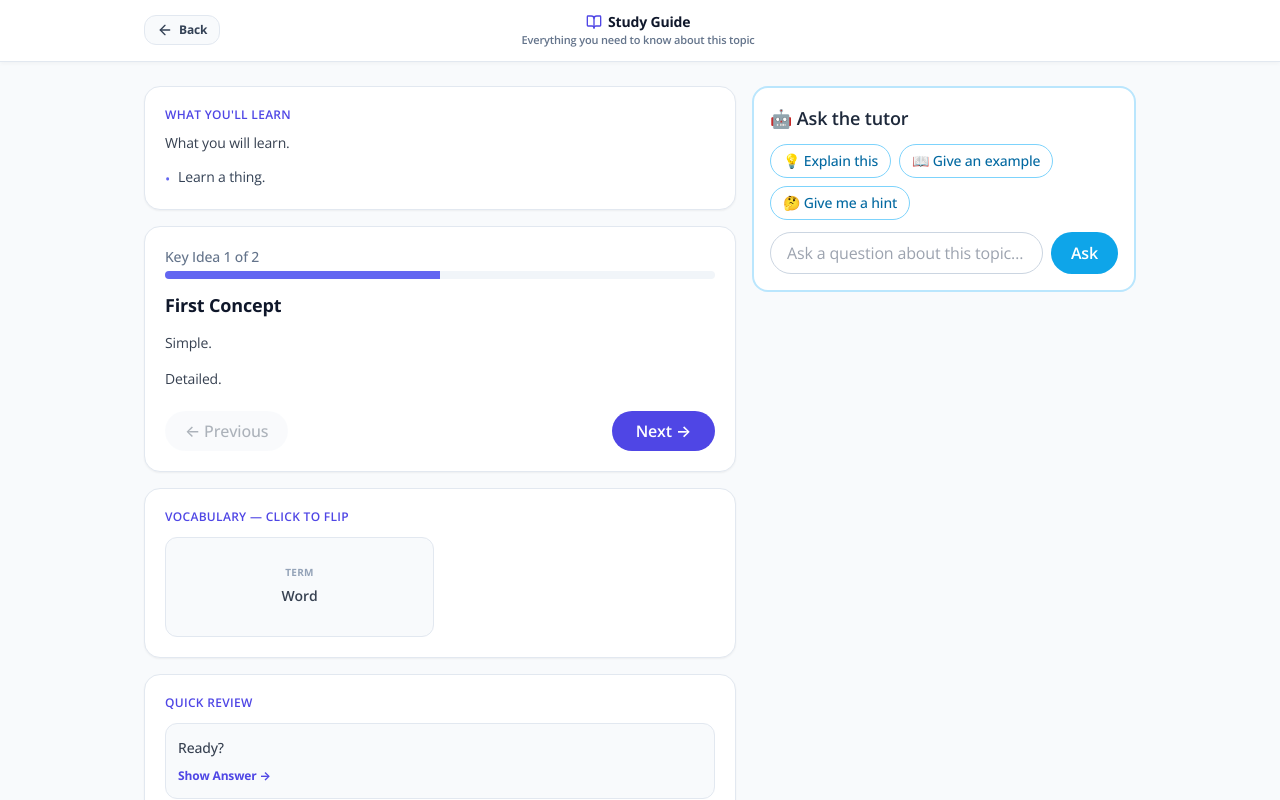
Test: KidsStudyGuidePage › renders the concept stepper, vocabulary, and practice questions without throwing
Check: the heading "First Concept" is shown, box 165,292 -> 282,316
Check: the text "What you will learn." is shown, box 165,132 -> 290,152
Stepping to the next concept exercises the Prev/Next state transition without crashing.
What coordinates should you click on to do the following:
click the button "Next →"
I would click on:
 (663, 430)
Its box is 612,410 -> 715,450.
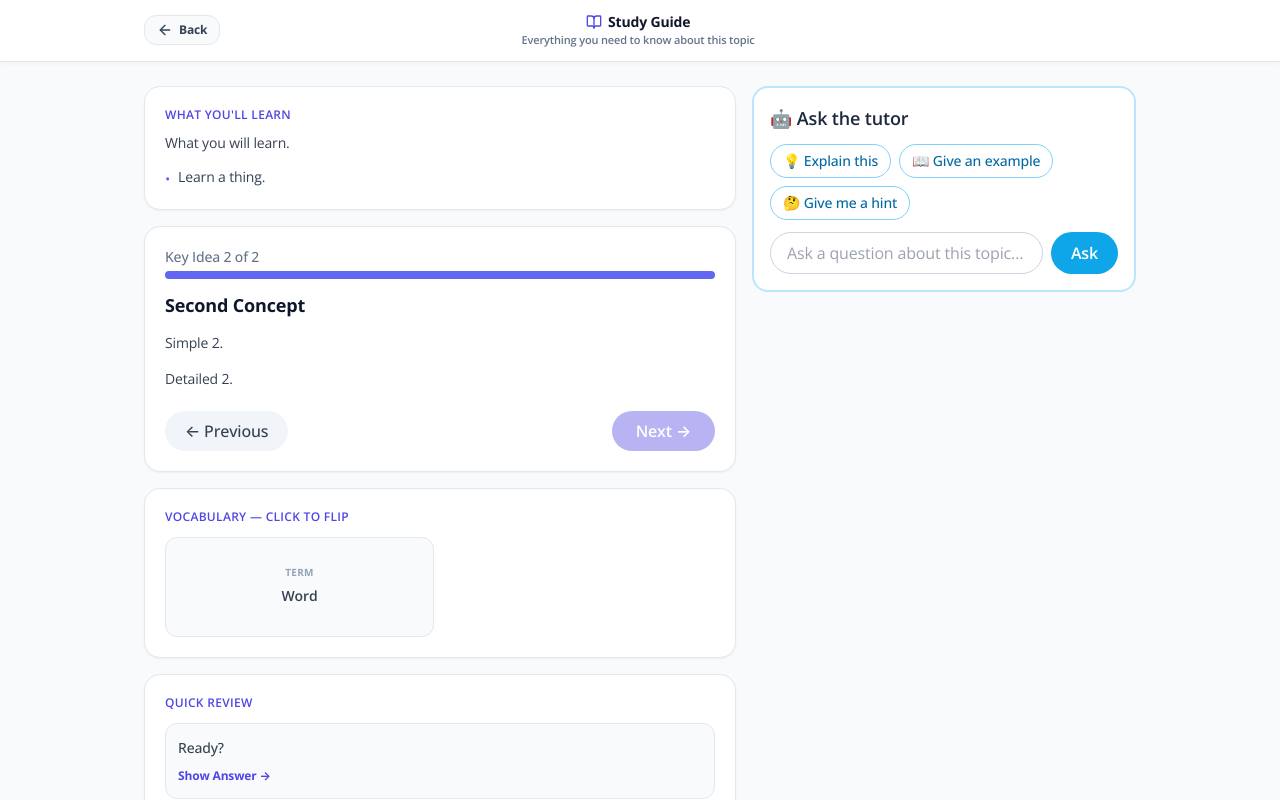
Check: the heading "Second Concept" is shown, box 165,292 -> 305,316
Flipping a vocabulary card exercises the child-friendly-explanation branch.
What coordinates should you click on to do the following:
click the text "Word"
I would click on:
 (299, 596)
Its box is 282,584 -> 317,608.
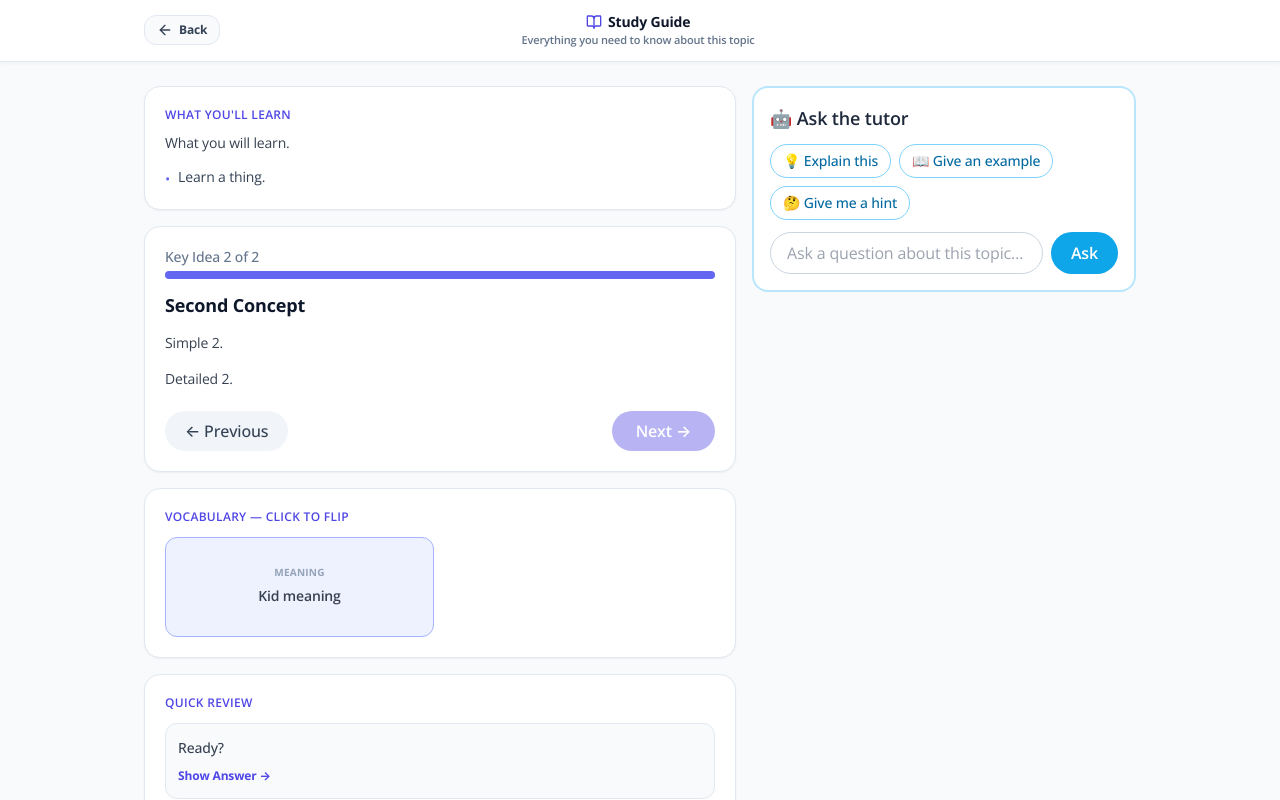
Check: the text "Kid meaning" is shown, box 258,584 -> 341,608
